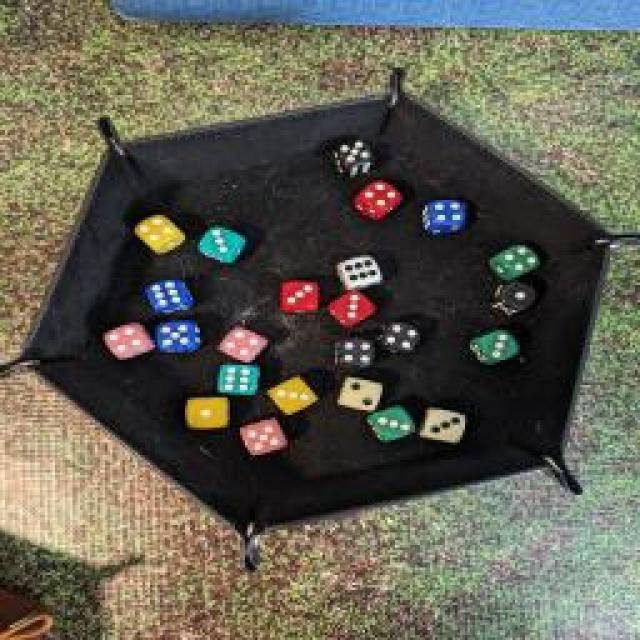dice_1: (477, 278, 545, 320), (180, 394, 235, 434)
dice_2: (328, 371, 388, 414)
dice_3: (464, 326, 526, 369), (198, 222, 250, 268), (278, 272, 328, 318), (418, 404, 470, 448), (324, 288, 378, 330), (259, 378, 319, 414), (365, 405, 415, 443)
dice_4: (99, 321, 161, 361), (486, 239, 544, 281), (349, 178, 406, 220), (129, 214, 186, 254), (419, 193, 471, 235), (215, 324, 267, 361), (336, 334, 382, 374), (378, 316, 424, 352)
dice_5: (330, 136, 380, 182), (239, 412, 291, 456), (151, 320, 201, 355)
dice_6: (143, 275, 195, 315), (210, 358, 262, 398), (336, 251, 382, 289)
